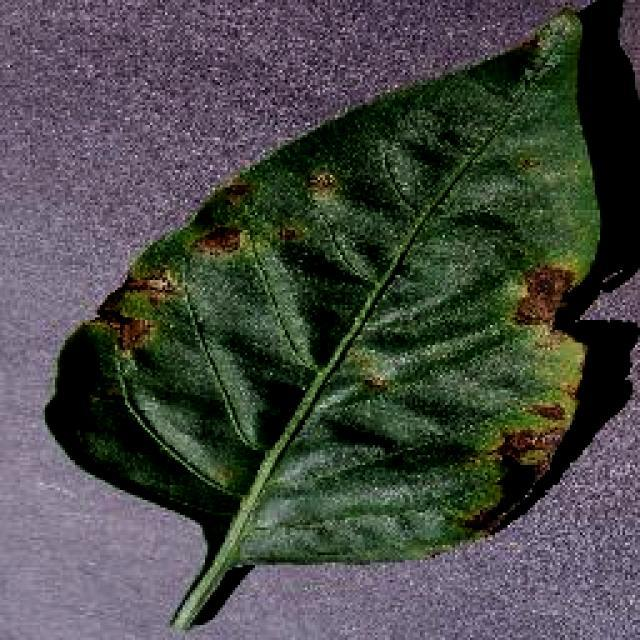Bercak Daun Serkospora: (45, 0, 618, 630)
